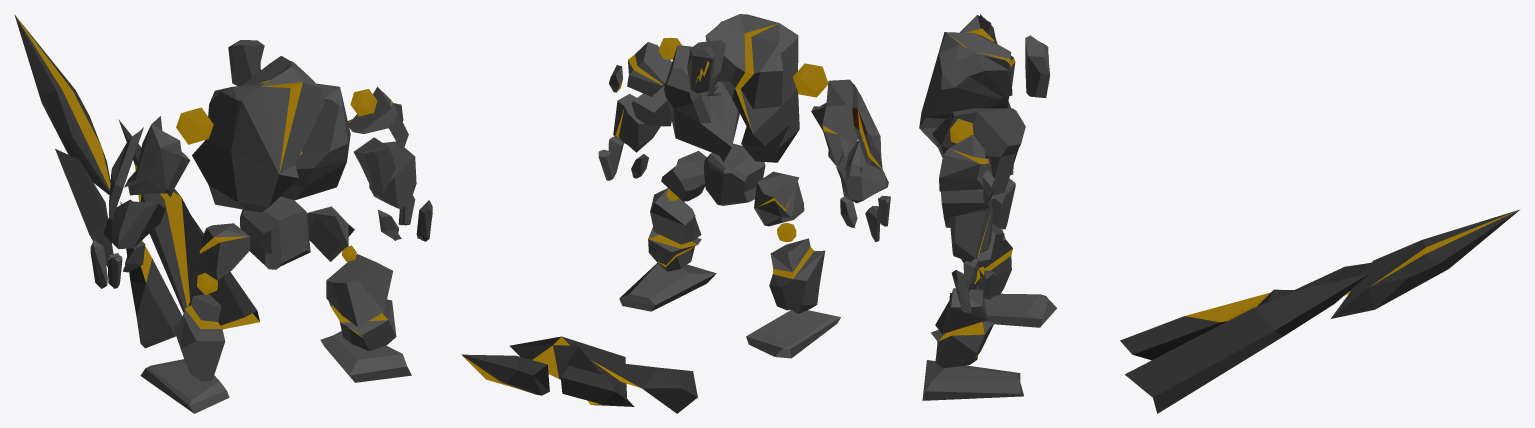
Rendered from 0-anim-no-arm-test.glb.
The picture shows the model from 3 angles, left to right: view 1: azimuth 30°, elevation 25°; view 2: azimuth 150°, elevation 25°; view 3: azimuth 270°, elevation 25°; orthographic projection. The views are drawn at different scales.
Parts seen in each view (by area): view 1: Lightning-golem.001; view 2: Lightning-golem.001; view 3: Lightning-golem.001.
Boxes of the visible parts, x1=… form: Lightning-golem.001: x1=14, y1=14, x2=432, y2=413; Lightning-golem.001: x1=461, y1=14, x2=890, y2=413; Lightning-golem.001: x1=919, y1=14, x2=1520, y2=413.
Size of the model in its own units: 2.1 by 2.24 by 3.59.
1 material, 1 textured.
